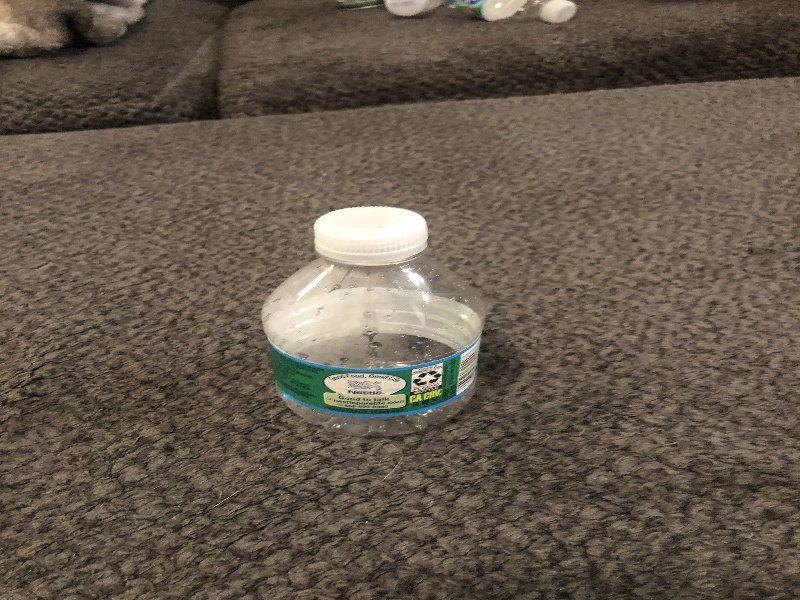plastic: (255, 201, 497, 442)
